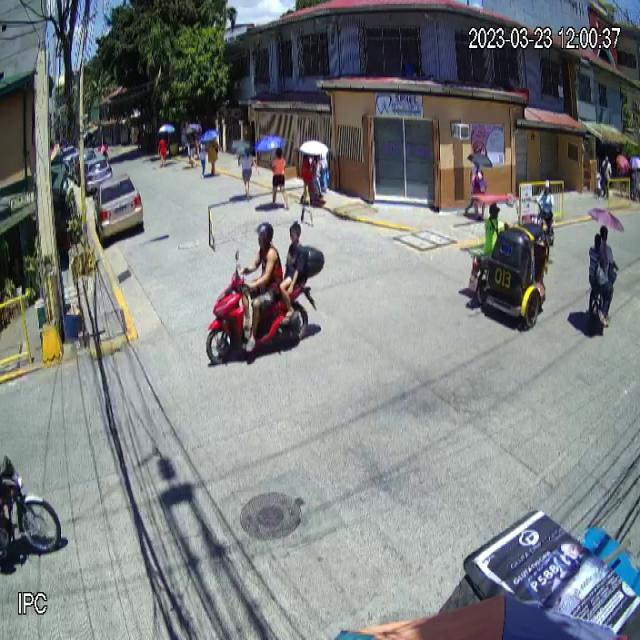Motorcycle: (208, 246, 322, 362)
Tricycle: (470, 188, 551, 335)
